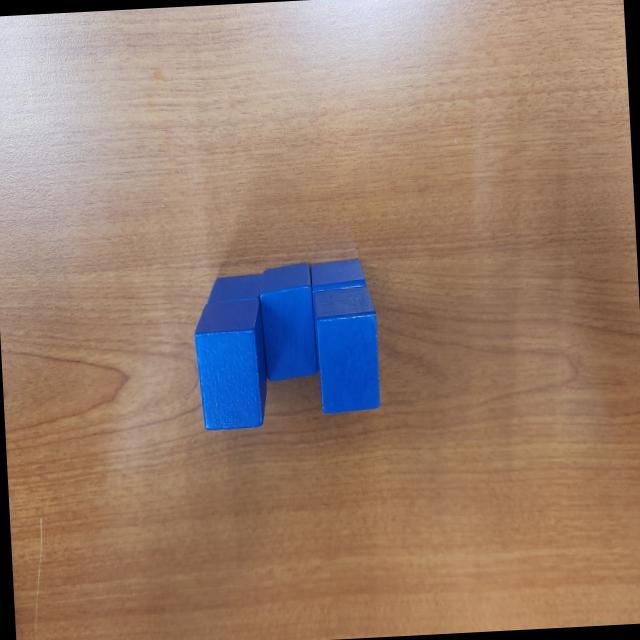blue: (192, 298, 270, 434), (312, 284, 382, 417), (258, 262, 320, 383), (310, 258, 370, 347), (204, 271, 264, 304)
